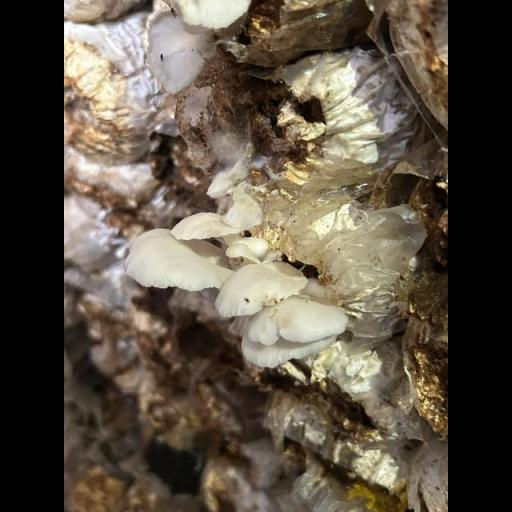White Oyster Mushroom: (127, 214, 345, 364)
